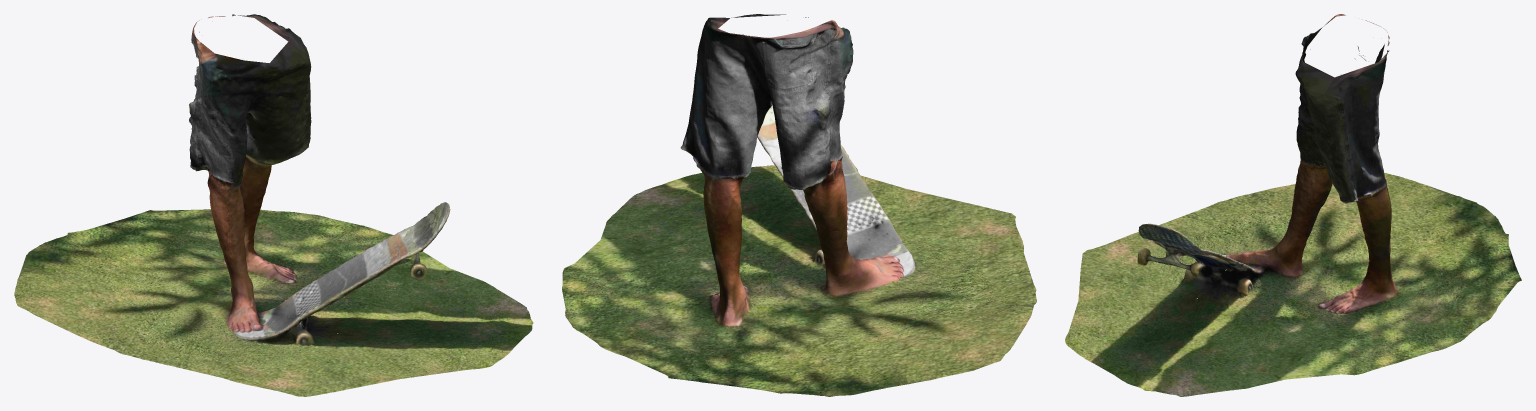
File: legjob2.glb
The picture shows the model from 3 angles, left to right: view 1: azimuth 30°, elevation 25°; view 2: azimuth 150°, elevation 25°; view 3: azimuth 270°, elevation 25°; orthographic projection. The views are drawn at different scales.
Visible parts, largest first — view 1: mesh; view 2: mesh; view 3: mesh.
Part boxes in pixels (box(x1,y1,x2,y2)): mesh: box(14, 14, 533, 396); mesh: box(562, 14, 1036, 396); mesh: box(1065, 14, 1521, 396).
Bounding box in the file's own units: 1.53 × 0.9579 × 1.5.
1 material, 1 textured.
